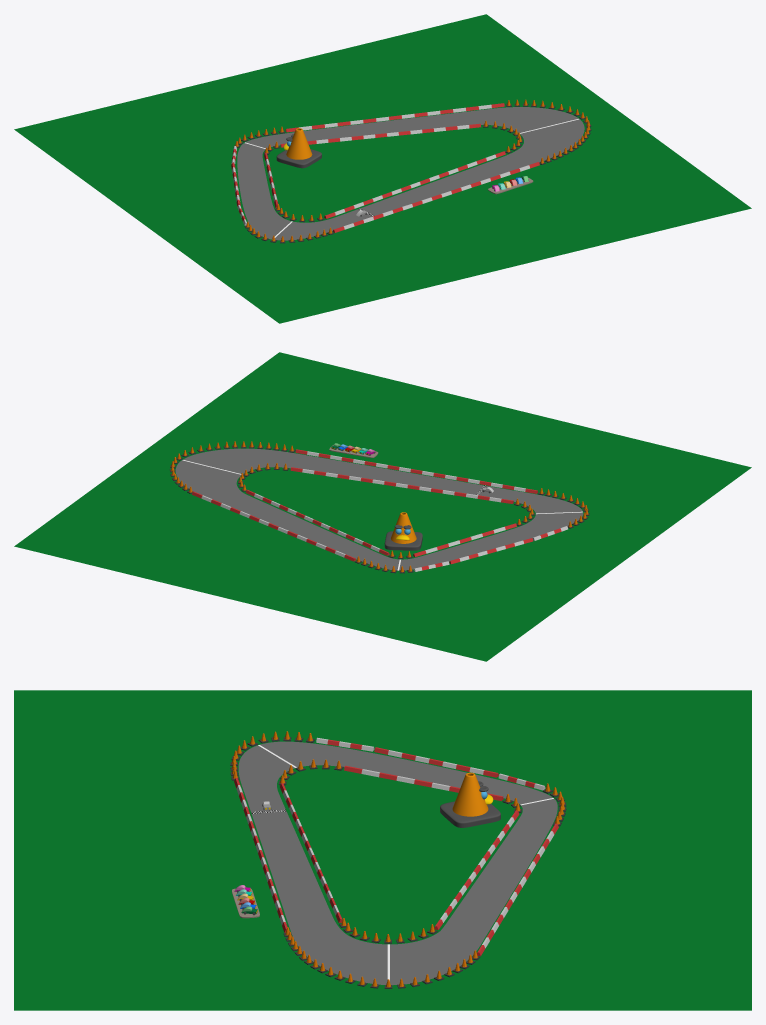
The model's file is Track023.fbx.
3 views of the same model, one above another, from view 1: azimuth 30°, elevation 25°; view 2: azimuth 150°, elevation 25°; view 3: azimuth 270°, elevation 25° (orthographic). The views are drawn at different scales.
Parts seen in each view (by area): view 1: Grass, Road, Barrier.002, Barrier.001, Barrier.005, Barrier.007, BigConeTop; view 2: Grass, Road, Barrier.002, Barrier.005, Barrier.001, Barrier.007; view 3: Grass, Road, BigConeTop, Barrier.002, Barrier.001, BigConeBase, Barrier.005, Barrier.007, Barrier.006, Barrier.009.
Boxes of the visible parts, box(x1,y1,x2,y2) form: Grass: box(14, 14, 751, 323); Road: box(237, 107, 584, 240); Barrier.002: box(332, 162, 539, 232); Barrier.001: box(285, 103, 504, 132); Barrier.005: box(324, 151, 505, 218); Barrier.007: box(280, 123, 480, 147); BigConeTop: box(286, 128, 312, 159); Grass: box(14, 352, 751, 661); Road: box(175, 448, 583, 570); Barrier.002: box(295, 449, 537, 493); Barrier.005: box(290, 467, 513, 503); Barrier.001: box(192, 491, 356, 561); Barrier.007: box(246, 490, 389, 555); Grass: box(14, 690, 751, 1010); Road: box(238, 741, 557, 985); BigConeTop: box(452, 772, 488, 816); Barrier.002: box(234, 778, 287, 932); Barrier.001: box(477, 823, 558, 956); BigConeBase: box(440, 801, 500, 827); Barrier.005: box(280, 783, 342, 922); Barrier.007: box(434, 810, 519, 929); Barrier.006: box(344, 765, 503, 801); Barrier.009: box(374, 747, 498, 777).
Size of the model in its own units: 296 by 288 by 17.49.
